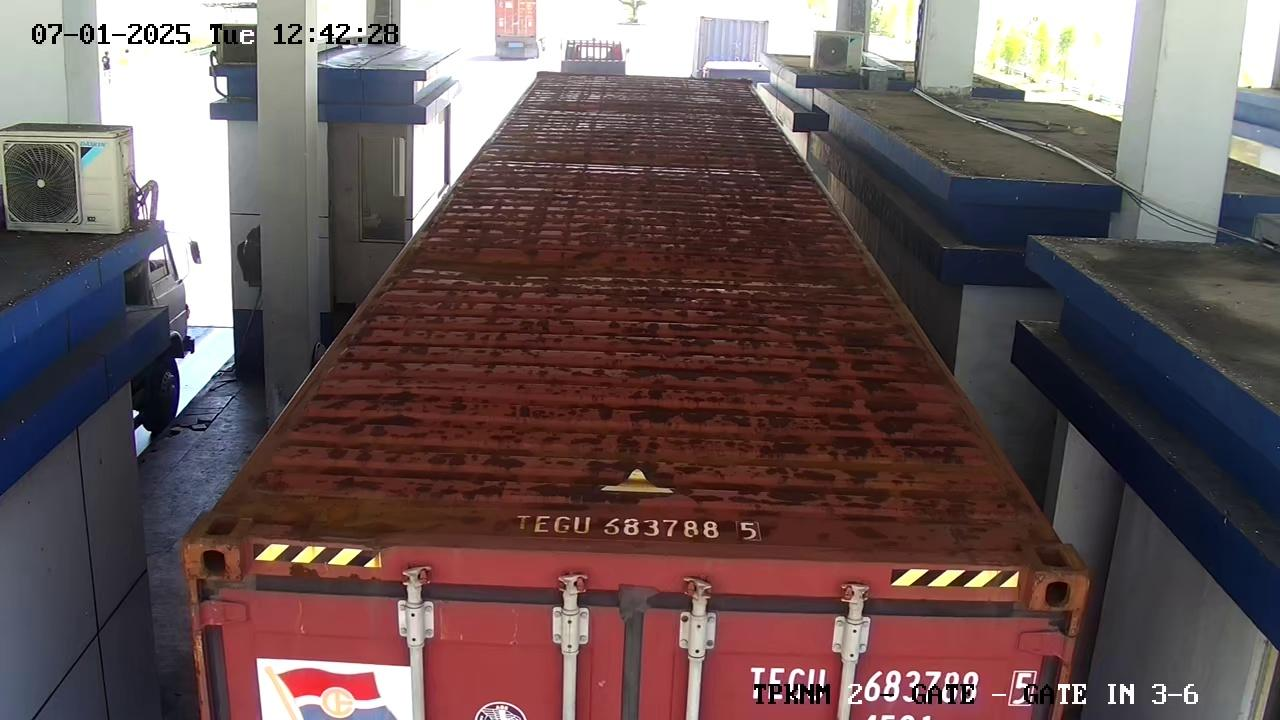Container_ID: (742, 654, 1046, 720), (495, 496, 777, 564)
